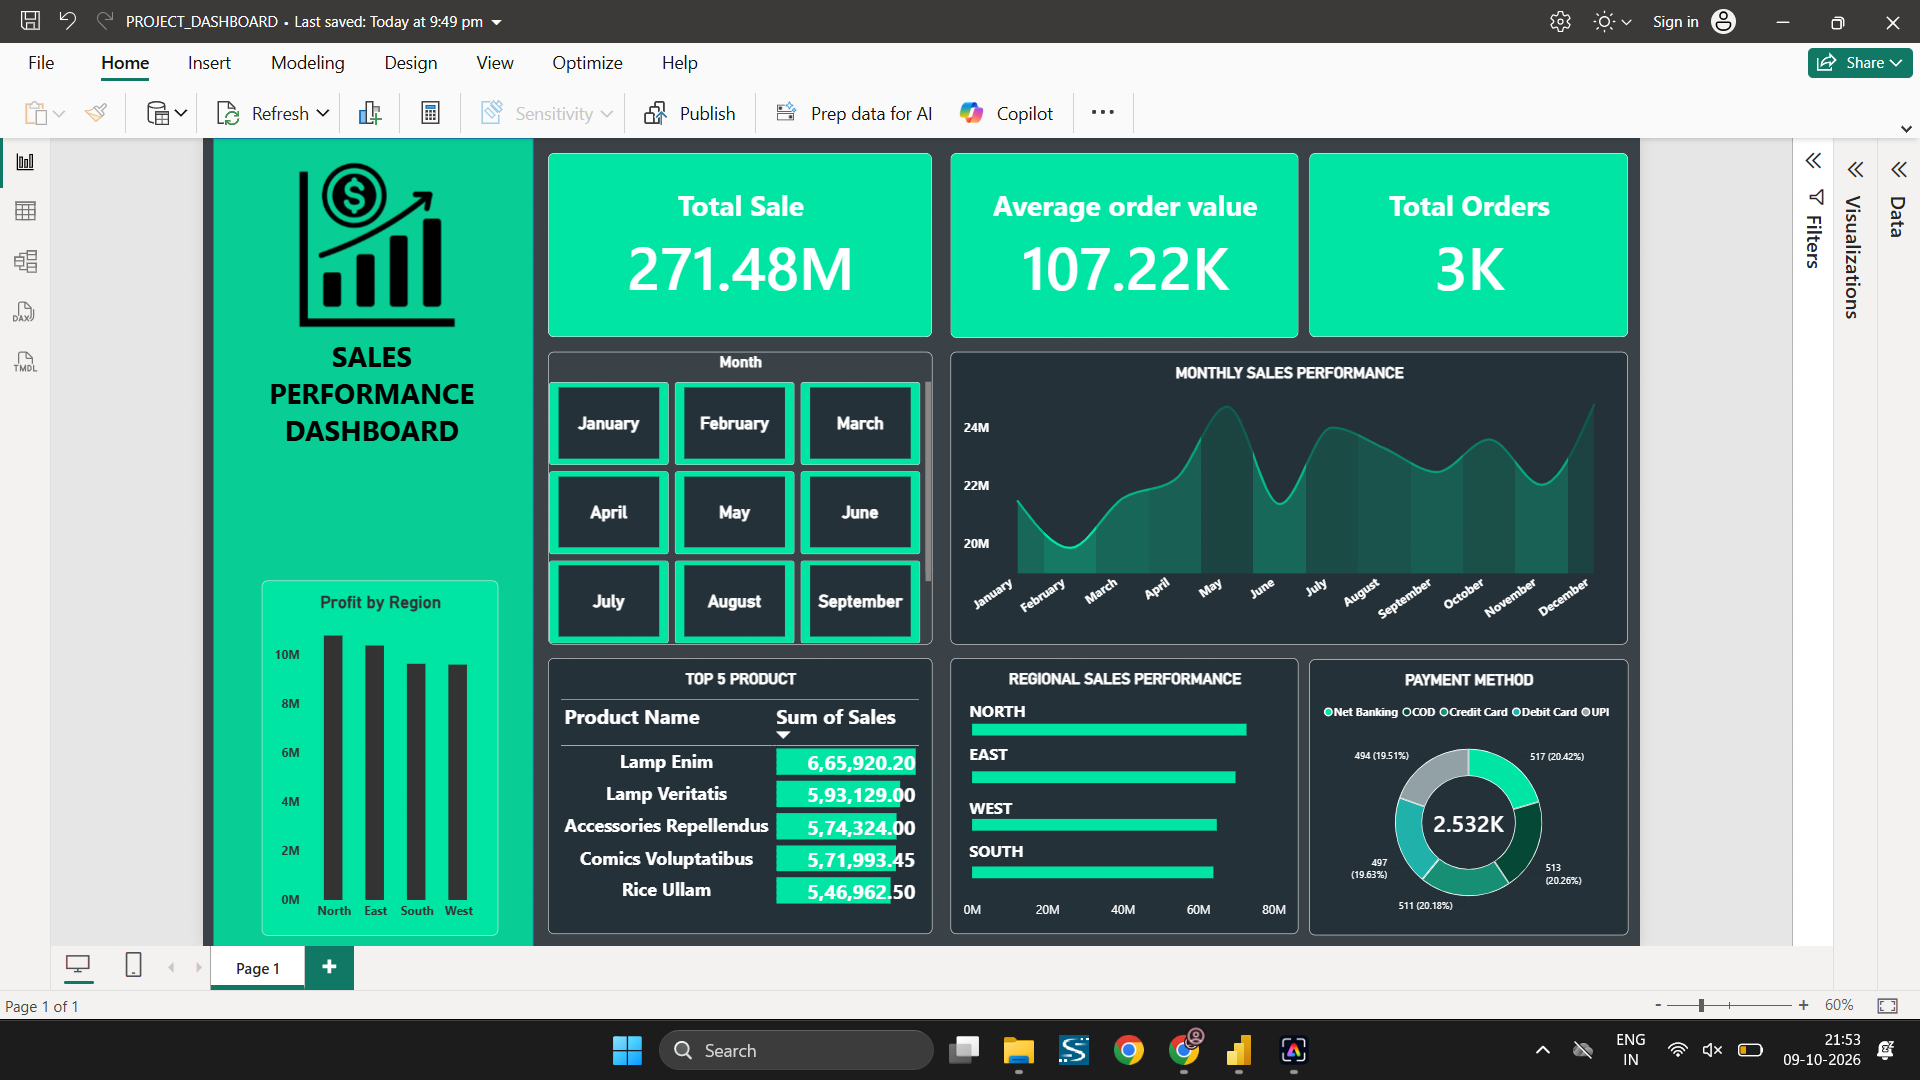

What the dashboard file says about the page in this screenshot:
{"tool":"powerbi","page":{"name":"Page 1","canvas":[1920,1080],"ordinal":0},"visuals":[{"type":"shape","box":[12.7,0,428.1,1080.6],"z":0},{"type":"cardVisual","fields":{"Data":["Sheet1.Average order value"]},"box":[998.9,19.9,465.1,247.9],"z":1000},{"type":"cardVisual","fields":{"Data":["Sheet1.Total Orders"]},"box":[1477.9,20.6,426.1,247],"z":2000},{"type":"areaChart","title":"MONTHLY SALES PERFORMANCE","fields":{"Category":["Sheet1.Order Date.Variation.Date Hierarchy.Month"],"Y":["Sum(Sheet1.Sales)"]},"box":[998.9,285.9,904.8,390.9],"z":3000},{"type":"donutChart","title":"PAYMENT METHOD","fields":{"Category":["Sheet1.Payment Mode"],"Y":["CountNonNull(Sheet1.Payment Mode)"]},"box":[1477.9,695.7,426.1,368.4],"z":4000},{"type":"clusteredBarChart","title":"REGIONAL SALES PERFORMANCE","fields":{"Category":["Sheet1.Region"],"Y":["Sum(Sheet1.Sales)"]},"box":[998.9,694.9,465.1,369.2],"z":5000},{"type":"pivotTable","title":"TOP 5 PRODUCT","fields":{"Rows":["Sheet1.Product Name"],"Values":["Sum(Sheet1.Sales)"]},"box":[461.5,694.9,513.9,369.2],"z":6000},{"type":"cardVisual","fields":{"Data":["Sheet1.Total Sale"]},"box":[461.5,19.9,513.9,246.1],"z":7000},{"type":"textbox","box":[1024.3,749.2,88.7,32.6],"z":8000},{"type":"textbox","box":[1024.3,808.9,105,30.8],"z":9000},{"type":"textbox","box":[1024.3,879.5,105,29],"z":10000},{"type":"textbox","box":[1024.3,937.4,105,29],"z":11000},{"type":"advancedSlicerVisual","fields":{"Values":["Sheet1.Order Date.Variation.Date Hierarchy.Month"]},"box":[461.5,285.9,513.9,390.9],"z":12000},{"type":"actionButton","box":[77.8,19.9,316.7,246.1],"z":13000},{"type":"textbox","box":[52.5,266,347.5,162.9],"z":14000},{"type":"columnChart","title":"Profit by Region","fields":{"Category":["Sheet1.Region"],"Y":["Sum(Sheet1.Profit)"]},"box":[78.2,590.9,316.4,474.5],"z":16000}]}

Visuals, with their boxes on the page's 1920x1080 design canvas (x1, y1, x2, y2). These are canvas units, not pixel positions in the 1920x1080 screenshot, which may show the page scaled, cropped or inside an application window:
shape: <box>13,0,441,1081</box>
cardVisual - Sheet1.Average order value: <box>999,20,1464,268</box>
cardVisual - Sheet1.Total Orders: <box>1478,21,1904,268</box>
"MONTHLY SALES PERFORMANCE" areaChart: <box>999,286,1904,677</box>
"PAYMENT METHOD" donutChart: <box>1478,696,1904,1064</box>
"REGIONAL SALES PERFORMANCE" clusteredBarChart: <box>999,695,1464,1064</box>
"TOP 5 PRODUCT" pivotTable: <box>462,695,975,1064</box>
cardVisual - Sheet1.Total Sale: <box>462,20,975,266</box>
textbox: <box>1024,749,1113,782</box>
textbox: <box>1024,809,1129,840</box>
textbox: <box>1024,880,1129,908</box>
textbox: <box>1024,937,1129,966</box>
advancedSlicerVisual - Sheet1.Order Date.Variation.Date Hierarchy.Month: <box>462,286,975,677</box>
actionButton: <box>78,20,394,266</box>
textbox: <box>52,266,400,429</box>
"Profit by Region" columnChart: <box>78,591,395,1065</box>
